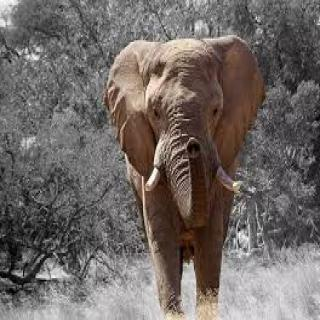Elephant: (99, 32, 268, 318)
